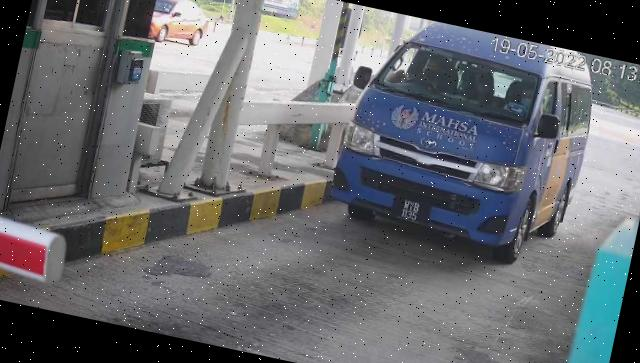License_Plate: (388, 192, 436, 231)
van: (322, 8, 606, 286)
